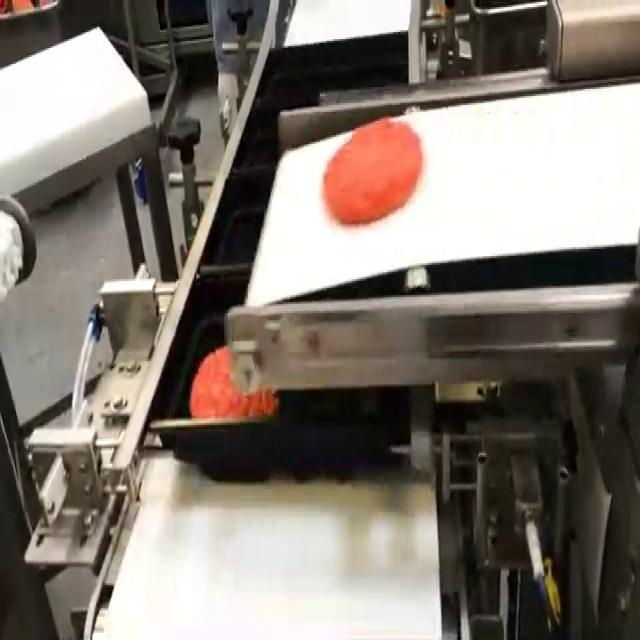hamburguer: (323, 117, 422, 224)
